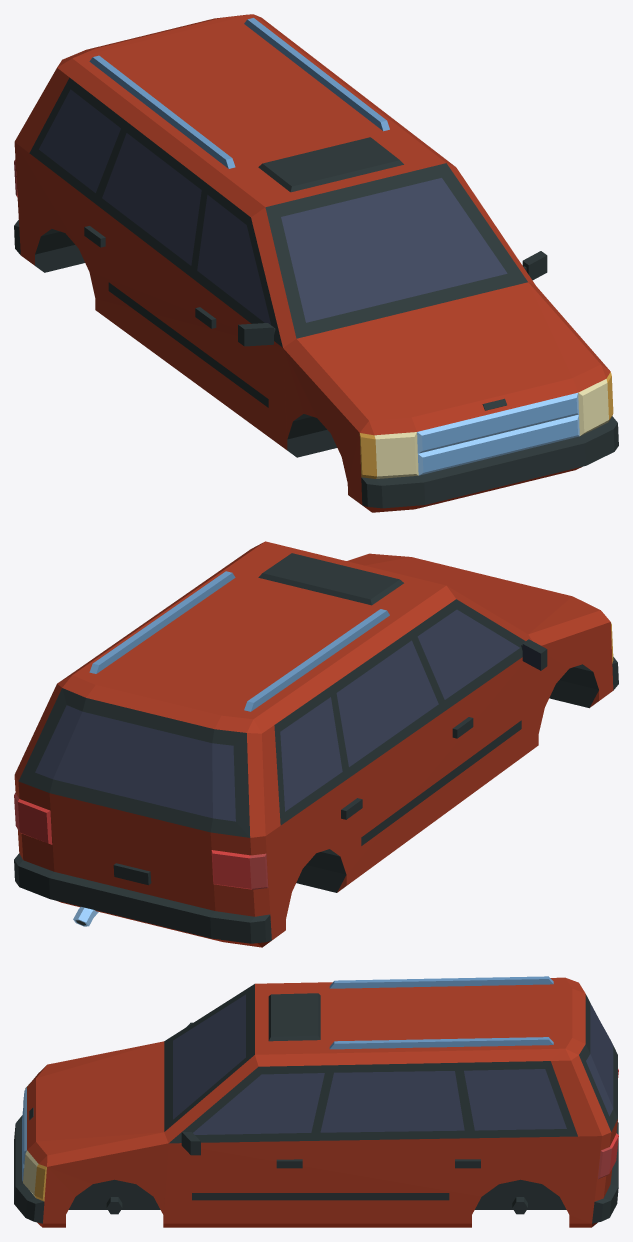
Rendered from Minivan.fbx.
3 views of the same model, one above another, from view 1: azimuth 30°, elevation 25°; view 2: azimuth 150°, elevation 25°; view 3: azimuth 270°, elevation 25° (orthographic). The views are drawn at different scales.
Visible parts, largest first — view 1: Van; view 2: Van; view 3: Van.
Part boxes in pixels (left/top/right/bottom): Van: left=14, top=14, right=618, bottom=512; Van: left=14, top=541, right=618, bottom=947; Van: left=14, top=976, right=618, bottom=1227.
Size of the model in its own units: 175 by 127 by 376.
